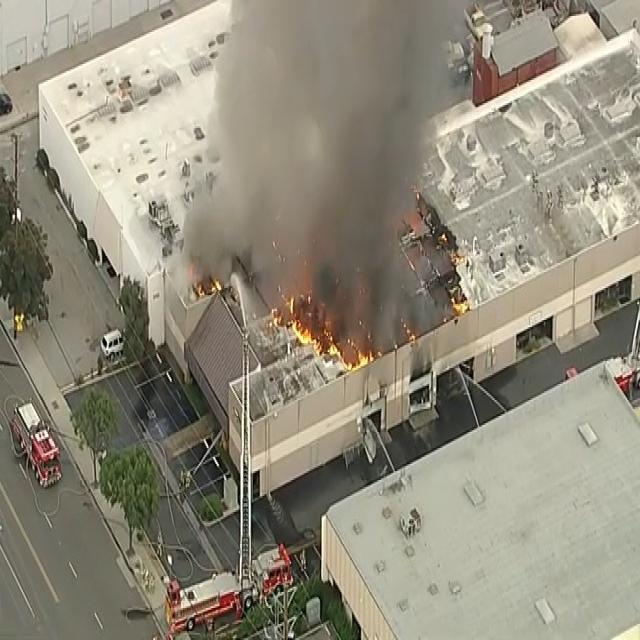Fire: (284, 276, 374, 374), (194, 234, 256, 299)
Smoke: (230, 7, 432, 268), (204, 176, 436, 304)
